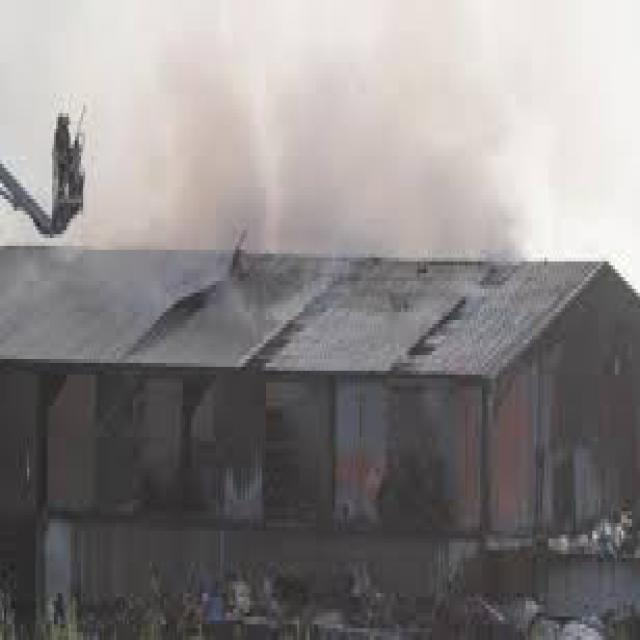smoke: (181, 4, 590, 269)
